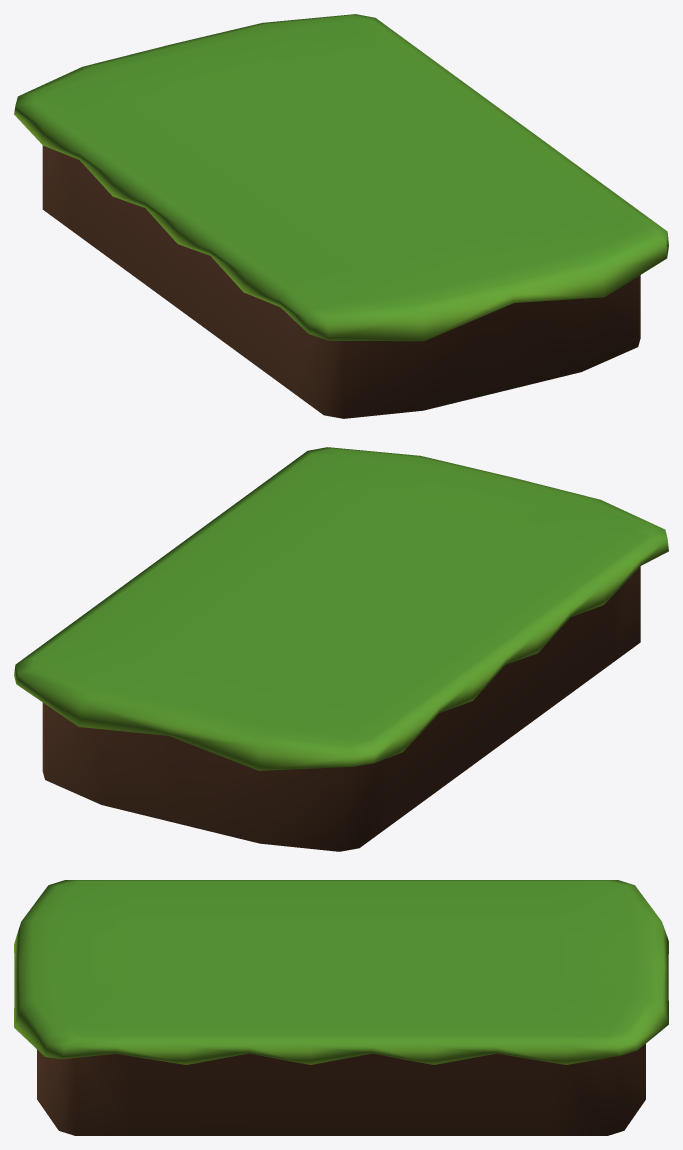
File: StarterGround.fbx
3 views of the same model, one above another, from view 1: azimuth 30°, elevation 25°; view 2: azimuth 150°, elevation 25°; view 3: azimuth 270°, elevation 25° (orthographic). The views are drawn at different scales.
Visible parts, largest first — view 1: StarterGround; view 2: StarterGround; view 3: StarterGround.
Boxes of the visible parts, box(x1,y1,x2,y2) form: StarterGround: box(14, 14, 668, 418); StarterGround: box(14, 447, 668, 851); StarterGround: box(14, 880, 668, 1135).
Size of the model in its own units: 982 by 297 by 1633.
